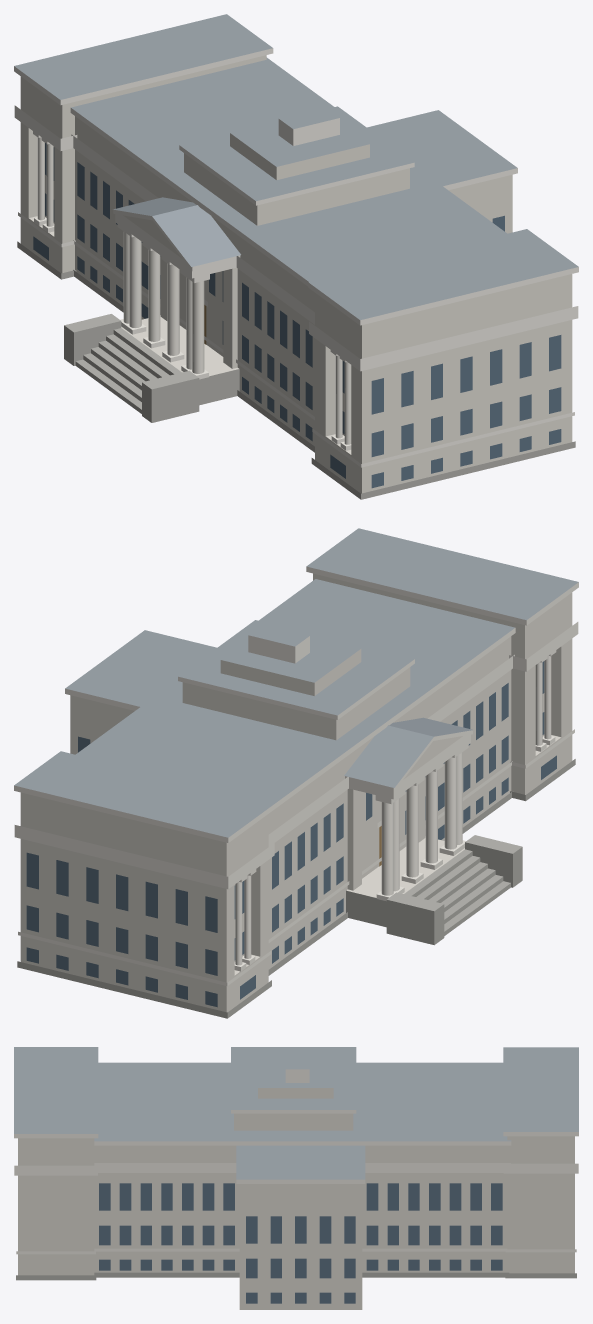
File: slc-park-building.glb
3 renders of one model, top to bottom at view 1: azimuth 30°, elevation 25°; view 2: azimuth 150°, elevation 25°; view 3: azimuth 270°, elevation 25°, orthographic. The views are drawn at different scales.
Parts seen in each view (by area): view 1: John R. Park Building; view 2: John R. Park Building; view 3: John R. Park Building.
Part boxes in pixels (x1,y1,x2,y2): John R. Park Building: (14, 14, 578, 499); John R. Park Building: (14, 528, 578, 1018); John R. Park Building: (14, 1047, 578, 1309).
Size of the model in its own units: 43.7 by 25.4 by 70.9.
